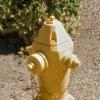Hydrant: (24, 9, 82, 100)
